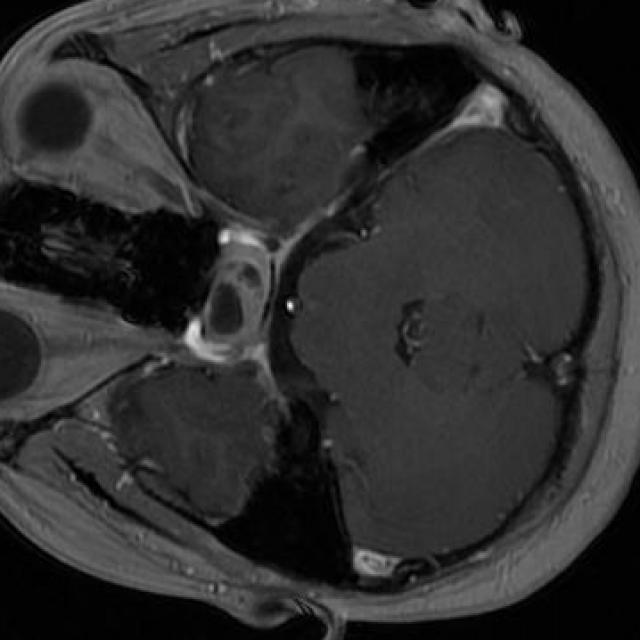pituitary: (184, 226, 273, 365)
